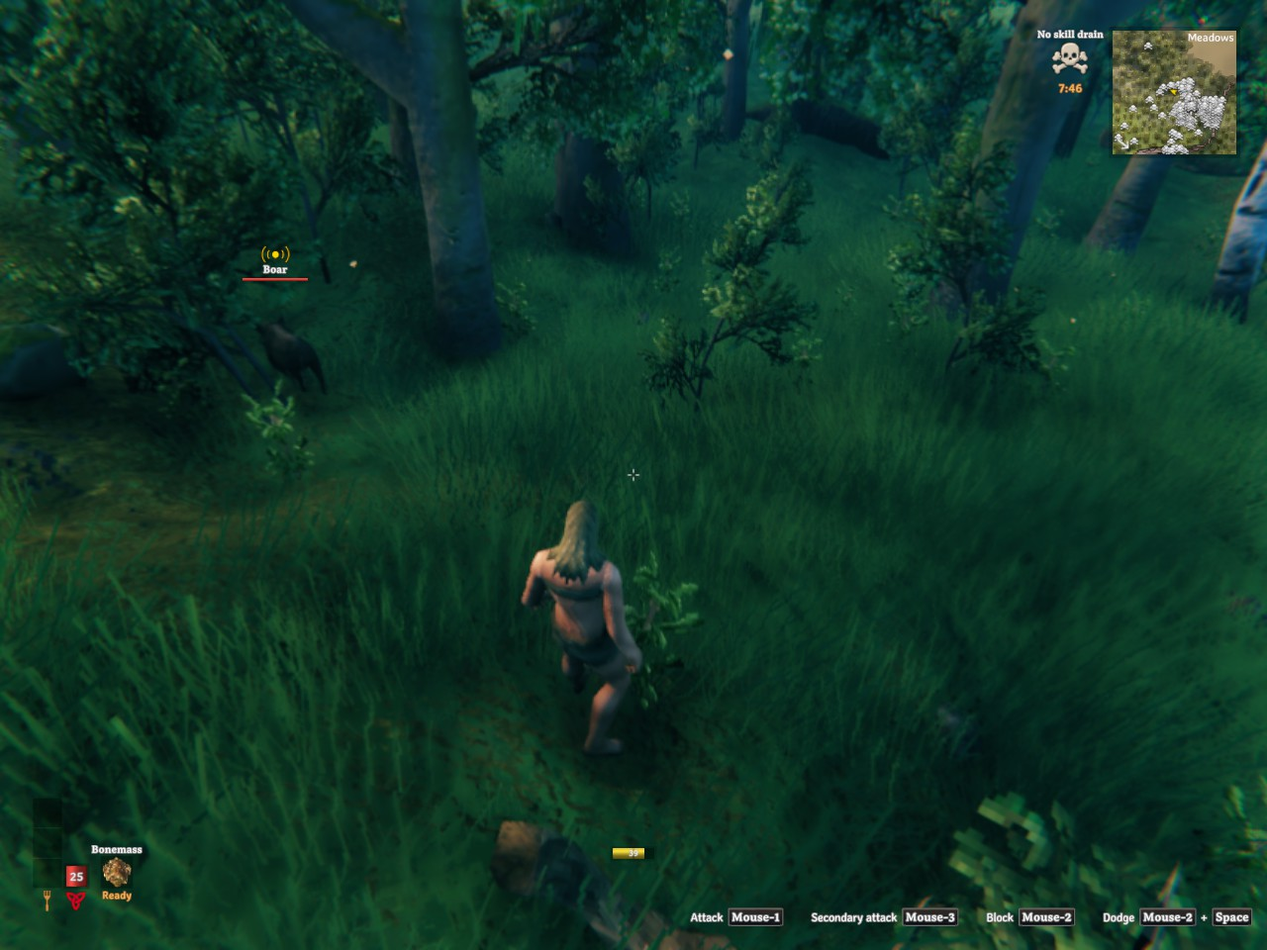Boar: (257, 320, 325, 393)
